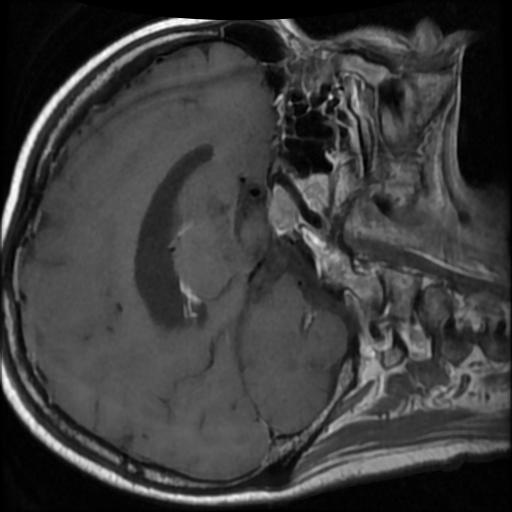pituitary tumour: (265, 182, 300, 230)
